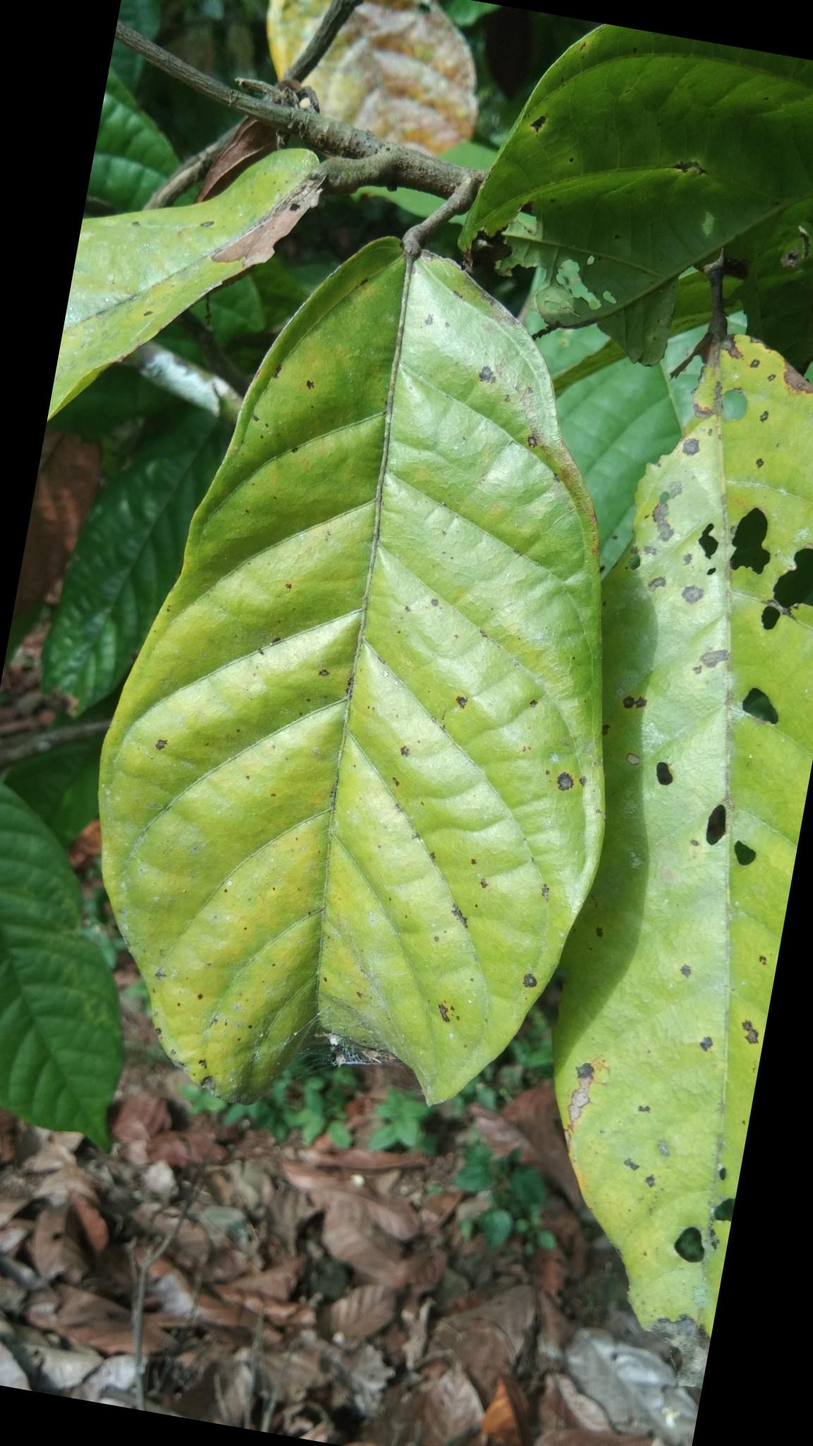Potasio: (89, 257, 636, 1146)
